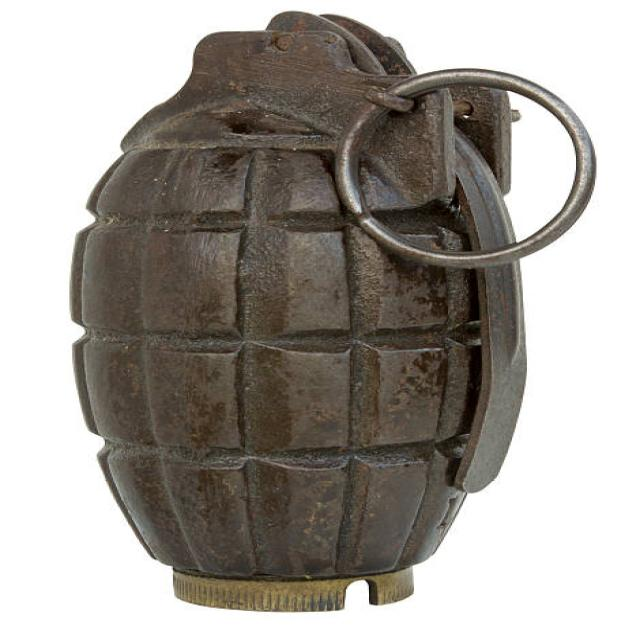grenade: (46, 6, 608, 630)
